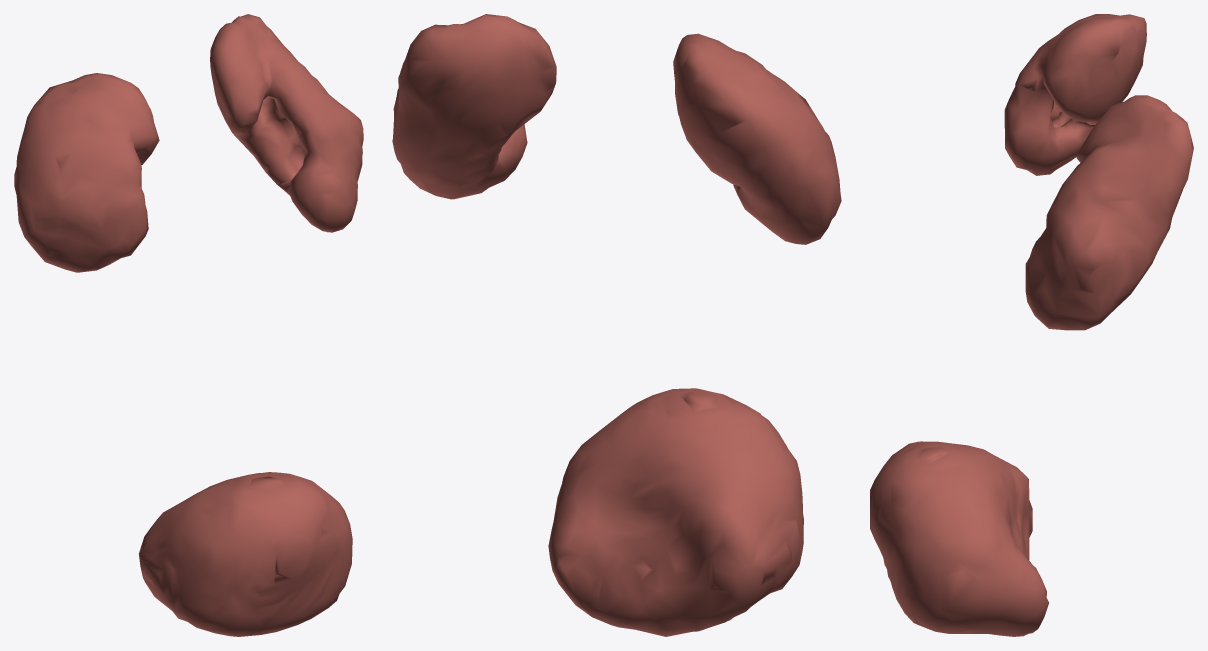
File: tsd_s0196_older_adult_female.urinary.LOD3.glb
The picture shows the model from 3 angles, left to right: view 1: azimuth 30°, elevation 25°; view 2: azimuth 150°, elevation 25°; view 3: azimuth 270°, elevation 25°; orthographic projection. The views are drawn at different scales.
Visible parts, largest first — view 1: TSD_S0196.OLDER_ADULT.FEMALE.URINARY.URINARY_BLADDER, TSD_S0196.OLDER_ADULT.FEMALE.URINARY.KIDNEY.R, TSD_S0196.OLDER_ADULT.FEMALE.URINARY.KIDNEY.L; view 2: TSD_S0196.OLDER_ADULT.FEMALE.URINARY.URINARY_BLADDER, TSD_S0196.OLDER_ADULT.FEMALE.URINARY.KIDNEY.L, TSD_S0196.OLDER_ADULT.FEMALE.URINARY.KIDNEY.R; view 3: TSD_S0196.OLDER_ADULT.FEMALE.URINARY.URINARY_BLADDER, TSD_S0196.OLDER_ADULT.FEMALE.URINARY.KIDNEY.L, TSD_S0196.OLDER_ADULT.FEMALE.URINARY.KIDNEY.R.
Boxes of the visible parts, box(x1,y1,x2,y2) form: TSD_S0196.OLDER_ADULT.FEMALE.URINARY.URINARY_BLADDER: box(139, 472, 352, 636); TSD_S0196.OLDER_ADULT.FEMALE.URINARY.KIDNEY.R: box(14, 73, 159, 272); TSD_S0196.OLDER_ADULT.FEMALE.URINARY.KIDNEY.L: box(210, 14, 363, 232); TSD_S0196.OLDER_ADULT.FEMALE.URINARY.URINARY_BLADDER: box(548, 388, 803, 636); TSD_S0196.OLDER_ADULT.FEMALE.URINARY.KIDNEY.L: box(392, 14, 556, 199); TSD_S0196.OLDER_ADULT.FEMALE.URINARY.KIDNEY.R: box(673, 33, 841, 244); TSD_S0196.OLDER_ADULT.FEMALE.URINARY.URINARY_BLADDER: box(870, 441, 1048, 636); TSD_S0196.OLDER_ADULT.FEMALE.URINARY.KIDNEY.L: box(1025, 95, 1193, 330); TSD_S0196.OLDER_ADULT.FEMALE.URINARY.KIDNEY.R: box(1004, 14, 1146, 175).
Size of the model in its own units: 0.1832 by 0.2717 by 0.1406.
